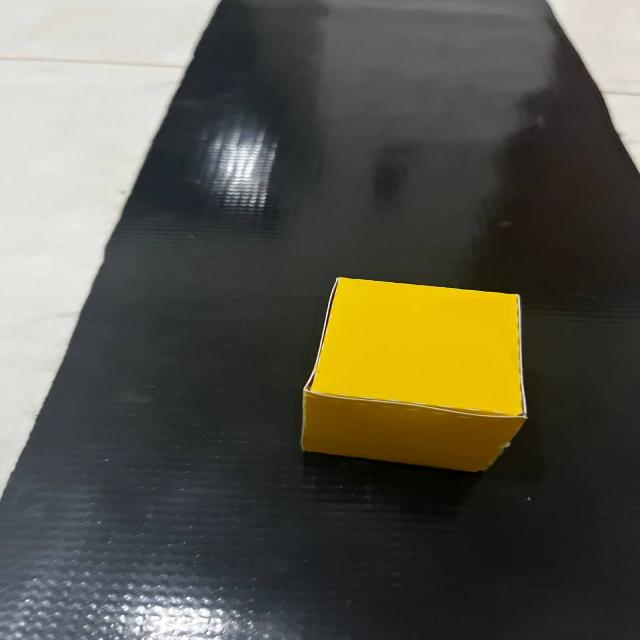Amarillo: (298, 257, 536, 506)
